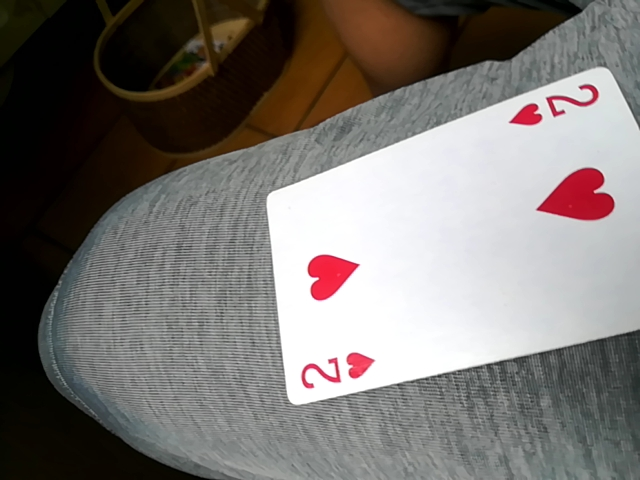hx 2: (268, 62, 638, 411)
